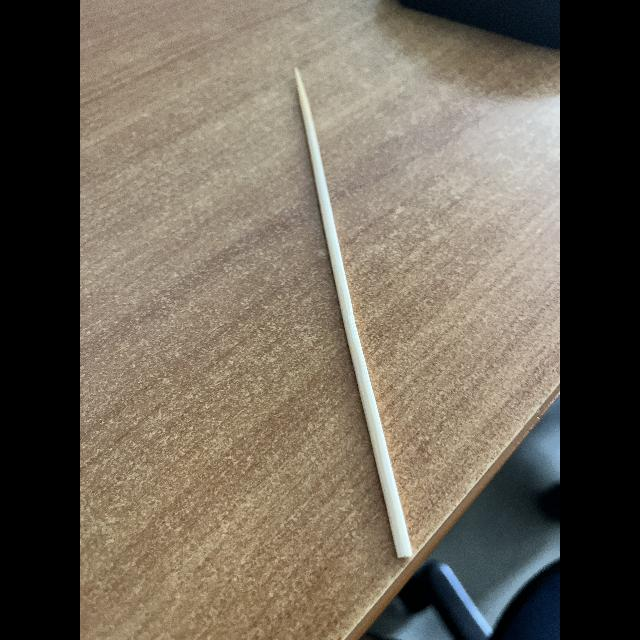stick: (272, 53, 423, 571)
